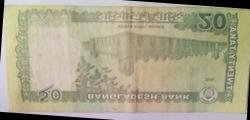20 taka: (4, 5, 246, 114)
